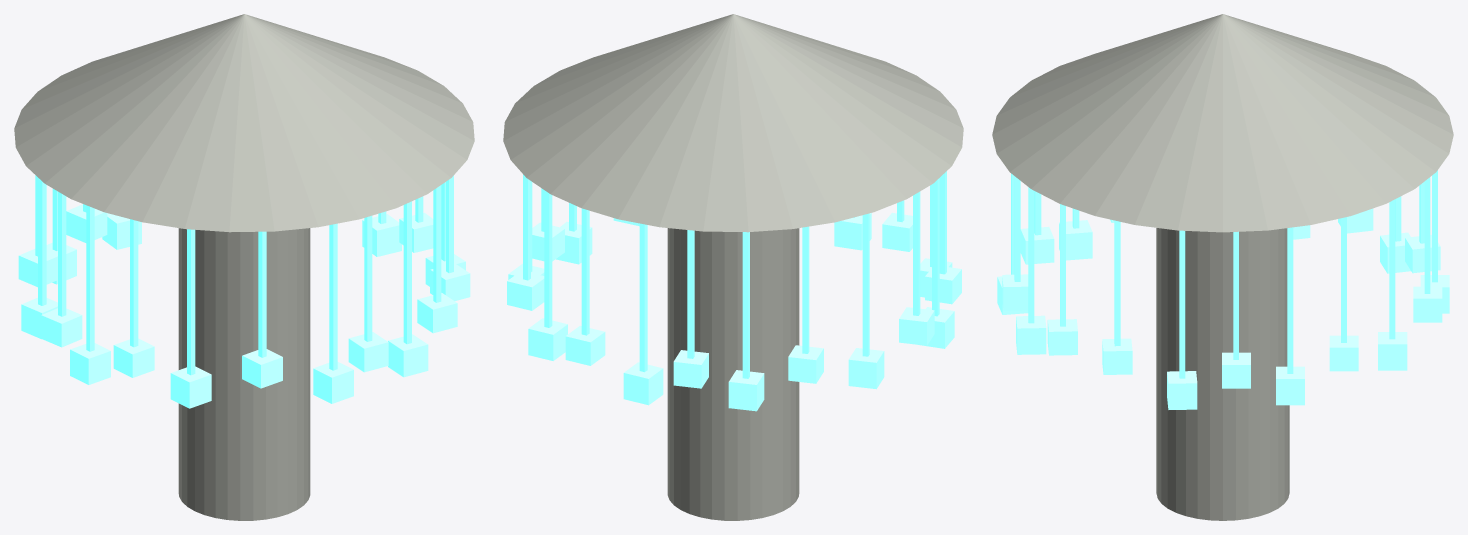
The model's file is space house 10.fbx.
3 renders of one model, left to right at view 1: azimuth 30°, elevation 25°; view 2: azimuth 150°, elevation 25°; view 3: azimuth 270°, elevation 25°, orthographic.
Visible parts, largest first — view 1: Cone, Cylinder, Cube.122, Cube.126, Cube.118, Cube.130, Cube.117, Cube.121, Cube.115, Cube.123, Cube.125, Cube.127 (+17 smaller); view 2: Cone, Cylinder, Cube.095, Cube.099, Cube.096, Cube.114, Cube.110, Cube.098, Cube.102, Cube.100, Cube.107, Cube.111 (+16 smaller); view 3: Cone, Cylinder, Cube.130, Cube.135, Cube.099, Cube.103, Cube.131, Cube.134, Cube.098, Cube.102, Cube.136, Cube.106 (+16 smaller).
Part boxes in pixels (x1=…): Cone: x1=14, y1=14, x2=474, y2=232; Cylinder: x1=178, y1=228, x2=310, y2=520; Cube.122: x1=170, y1=366, x2=211, y2=408; Cube.126: x1=70, y1=343, x2=110, y2=384; Cube.118: x1=313, y1=362, x2=353, y2=403; Cube.130: x1=388, y1=334, x2=428, y2=377; Cube.117: x1=329, y1=223, x2=337, y2=370; Cube.121: x1=187, y1=229, x2=195, y2=375; Cube.115: x1=41, y1=308, x2=82, y2=347; Cube.123: x1=113, y1=338, x2=154, y2=377; Cube.125: x1=86, y1=205, x2=94, y2=351; Cube.127: x1=348, y1=332, x2=388, y2=372; Cone: x1=503, y1=14, x2=963, y2=232; Cylinder: x1=667, y1=228, x2=799, y2=520; Cube.095: x1=623, y1=362, x2=663, y2=405; Cube.099: x1=528, y1=318, x2=567, y2=360; Cube.096: x1=639, y1=223, x2=647, y2=372; Cube.114: x1=848, y1=348, x2=884, y2=389; Cube.110: x1=728, y1=370, x2=764, y2=411; Cube.098: x1=565, y1=325, x2=605, y2=365; Cube.102: x1=507, y1=270, x2=544, y2=310; Cube.100: x1=544, y1=190, x2=552, y2=327; Cube.107: x1=673, y1=350, x2=708, y2=388; Cube.111: x1=788, y1=345, x2=823, y2=383; Cone: x1=992, y1=14, x2=1453, y2=232; Cylinder: x1=1156, y1=228, x2=1289, y2=520; Cube.130: x1=1016, y1=315, x2=1046, y2=354; Cube.135: x1=1167, y1=371, x2=1197, y2=409; Cube.099: x1=1378, y1=332, x2=1407, y2=370; Cube.103: x1=1276, y1=366, x2=1304, y2=405; Cube.131: x1=1047, y1=319, x2=1077, y2=355; Cube.134: x1=1102, y1=338, x2=1132, y2=374; Cube.098: x1=1413, y1=286, x2=1442, y2=322; Cube.102: x1=1329, y1=335, x2=1358, y2=371; Cube.136: x1=1179, y1=230, x2=1185, y2=378; Cube.106: x1=1222, y1=352, x2=1250, y2=388.
Bounding box in the file's own units: 1517 × 1737 × 1517.
